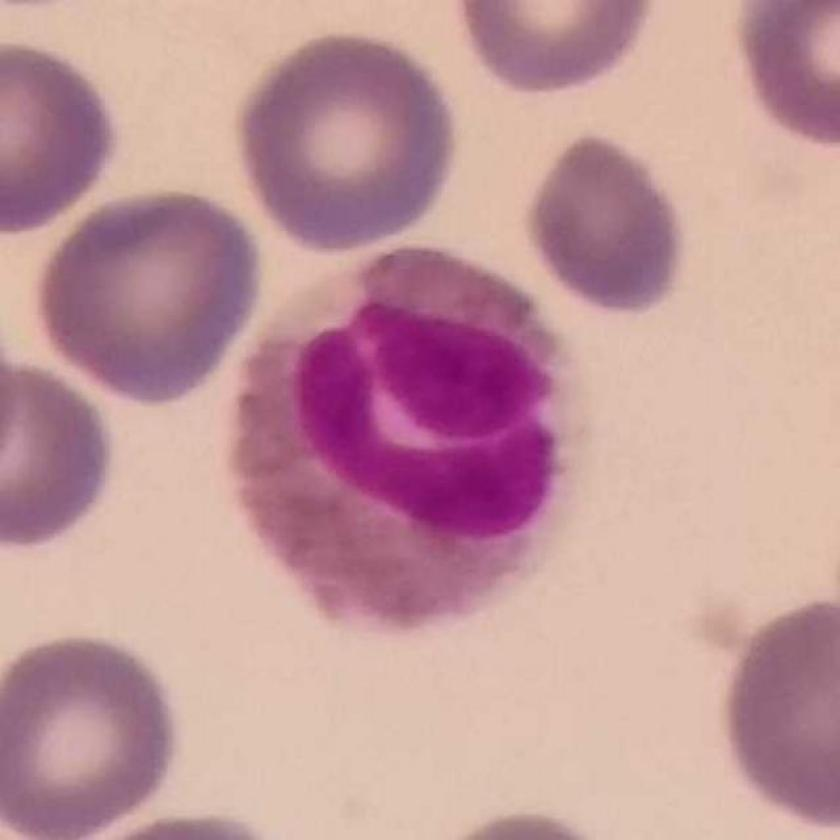eosinophil: (238, 239, 600, 638)
